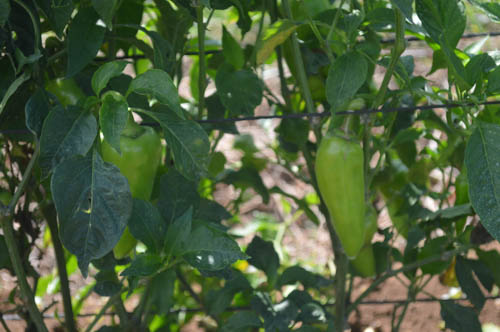ChiliPepper: (315, 137, 373, 272), (102, 138, 161, 251)
